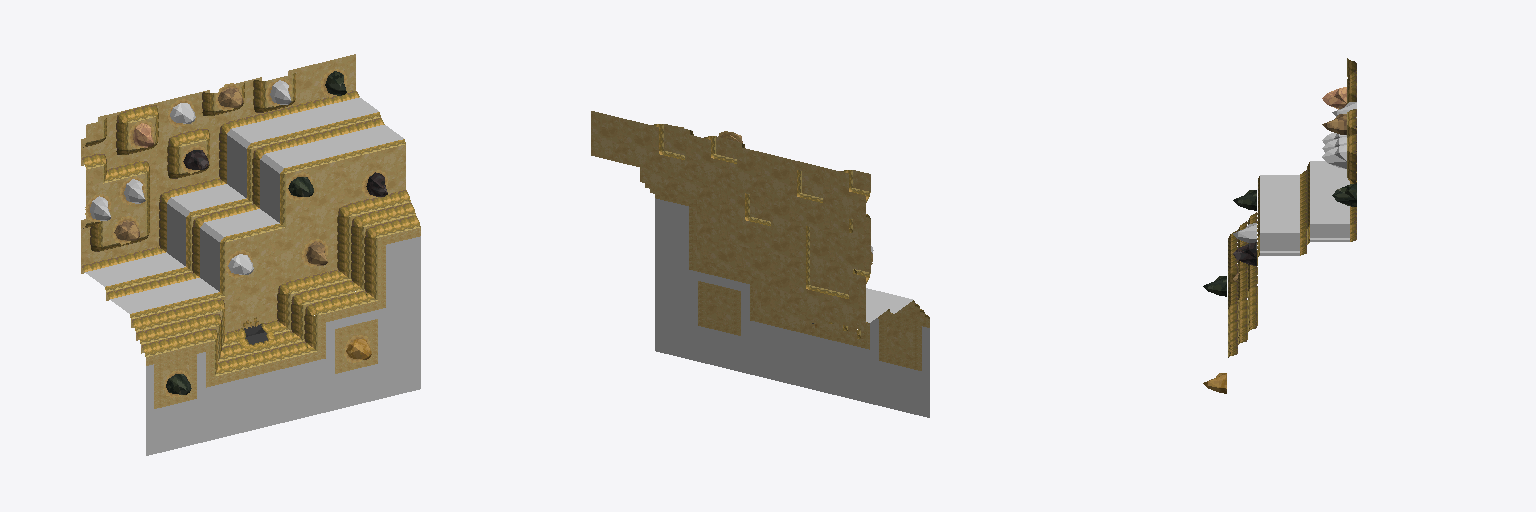
The picture shows the model from 3 angles: view 1: azimuth 30°, elevation 25°; view 2: azimuth 150°, elevation 25°; view 3: azimuth 270°, elevation 25°; orthographic projection.
Visible parts, largest first — view 1: map; view 2: map; view 3: map.
Boxes of the visible parts, x1,y1,x2,y2 form: map: [81, 54, 420, 455]; map: [591, 111, 929, 417]; map: [1203, 58, 1356, 393].
Bounding box in the file's own units: 32.3 × 32.92 × 15.54.
14 materials, 11 textured.